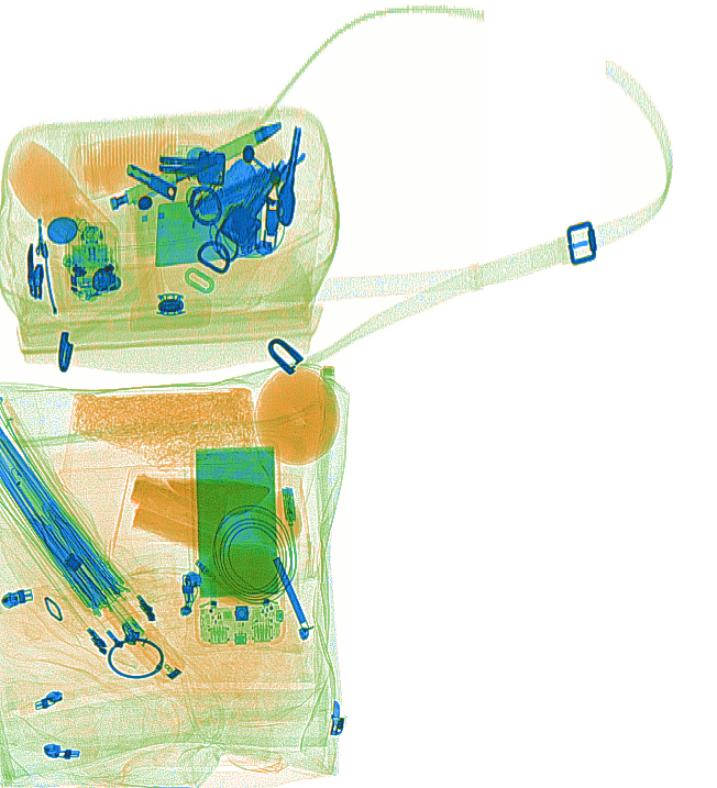plasticBottleWithaNozzle: (7, 139, 122, 260)
